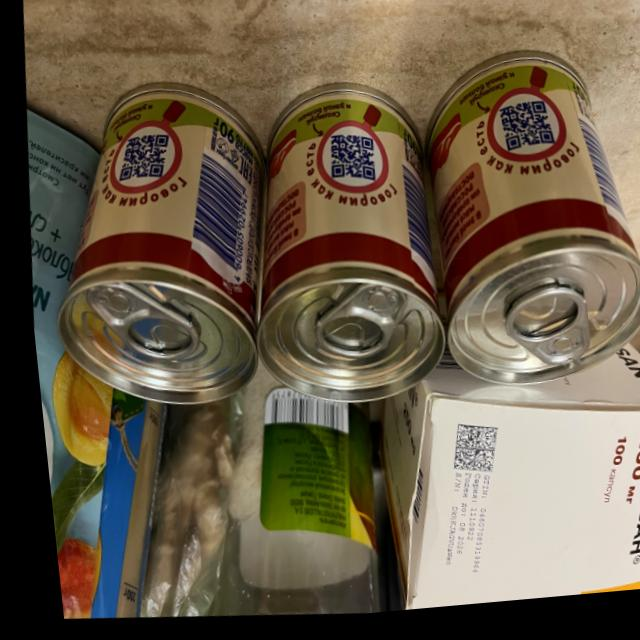datamatrix: (438, 427, 492, 484)
qrcode: (491, 106, 555, 164), (110, 133, 169, 187), (323, 137, 374, 191)
